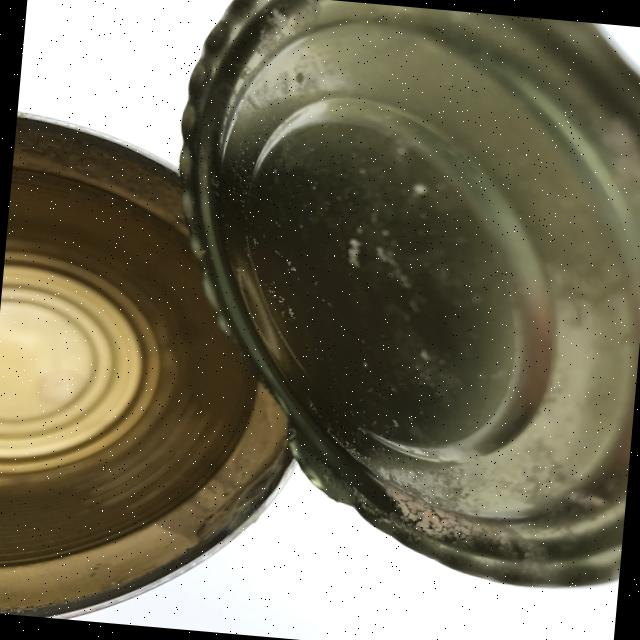metal: (141, 0, 640, 594), (0, 110, 324, 636)
